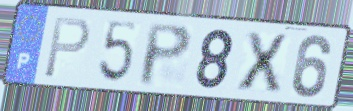5: (96, 19, 141, 85)
6: (290, 33, 332, 100)
8: (193, 27, 235, 92)
P: (137, 22, 194, 89), (41, 16, 93, 81)
X: (235, 29, 290, 94)
